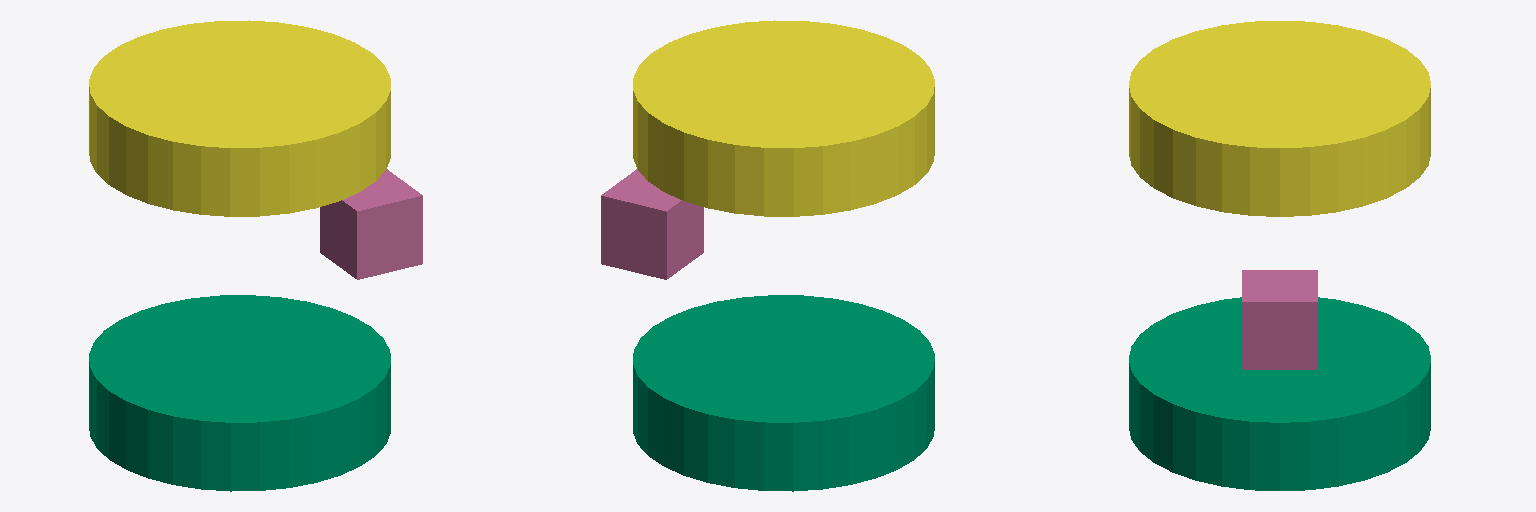
The robot description file, URDF, robot "my_robot":
<?xml version="1.0"?>

<robot xmlns:xacro="http://www.ros.org/wiki/xacro" name="my_robot">

  <!-- Define the differential drive base -->
  <link name="base_link"/>
  <joint name="base_joint" type="fixed">
    <parent link="base_link"/>
    <child link="base"/>
    <origin xyz="0 0 0" rpy="0 0 0"/>
  </joint>

  <link name="base"/>
  <joint name="left_wheel_joint" type="continuous">
    <parent link="base"/>
    <child link="left_wheel"/>
    <origin xyz="0.2 0 -0.1" rpy="0 0 0"/>
    <axis xyz="0 0 1"/>
  </joint>
  <joint name="right_wheel_joint" type="continuous">
    <parent link="base"/>
    <child link="right_wheel"/>
    <origin xyz="0.2 0 0.1" rpy="0 0 0"/>
    <axis xyz="0 0 1"/>
  </joint>

  <link name="left_wheel">
    <collision>
      <geometry>
        <cylinder radius="0.1" length="0.05"/>
      </geometry>
    </collision>
    <visual>
      <geometry>
        <cylinder radius="0.1" length="0.05"/>
      </geometry>
    </visual>
  </link>

  <link name="right_wheel">
    <collision>
      <geometry>
        <cylinder radius="0.1" length="0.05"/>
      </geometry>
    </collision>
    <visual>
      <geometry>
        <cylinder radius="0.1" length="0.05"/>
      </geometry>
    </visual>
  </link>

  <!-- Define the 2R manipulator -->
  <link name="link1"/>
  <joint name="joint1" type="revolute">
    <parent link="base"/>
    <child link="link1"/>
    <origin xyz="0 0 0" rpy="0 0 0"/>
    <axis xyz="0 0 1"/>
  </joint>

  <link name="link2"/>
  <joint name="joint2" type="revolute">
    <parent link="link1"/>
    <child link="link2"/>
    <origin xyz="0.2 0 0" rpy="0 0 0"/>
    <axis xyz="0 0 1"/>
  </joint>

  <!-- Define the camera -->
  <link name="camera_link">
    <inertial>
      <mass value="0.1"/>
      <origin xyz="0 0 0" rpy="0 0 0"/>
      <inertia ixx="0.001" ixy="0.0" ixz="0.0" iyy="0.001" iyz="0.0" izz="0.001"/>
    </inertial>
    <collision>
      <geometry>
        <box size="0.05 0.05 0.05"/>
      </geometry>
    </collision>
    <visual>
      <geometry>
        <box size="0.05 0.05 0.05"/>
      </geometry>
    </visual>
  </link>

  <joint name="camera_joint" type="fixed">
    <parent link="link2"/>
    <child link="camera_link"/>
    <origin xyz="0.1 0 0" rpy="0 0 0"/>
  </joint>

</robot>

--- Render facts (derived) ---
The picture shows the robot from 3 angles, left to right: view 1: azimuth 30°, elevation 25°; view 2: azimuth 150°, elevation 25°; view 3: azimuth 270°, elevation 25°; orthographic projection.
Robot: my_robot — 7 links, 6 joints (2 revolute, 2 continuous, 2 fixed); root link base_link; default pose: all joints at 0.
Links seen in each view (by area): view 1: left_wheel, right_wheel, camera_link; view 2: left_wheel, right_wheel, camera_link; view 3: right_wheel, left_wheel, camera_link.
Link boxes in pixels (x1,y1,x2,y2): left_wheel: (89,295,390,491); right_wheel: (89,20,390,216); camera_link: (320,169,422,279); left_wheel: (633,295,934,491); right_wheel: (633,20,934,216); camera_link: (601,169,703,279); right_wheel: (1129,21,1430,216); left_wheel: (1129,297,1430,490); camera_link: (1242,270,1317,369).
Bounding box of the posed robot: 0.225 × 0.2 × 0.25 m (x, y, z).
Geometry: primitives only (box / cylinder / sphere), no mesh files.